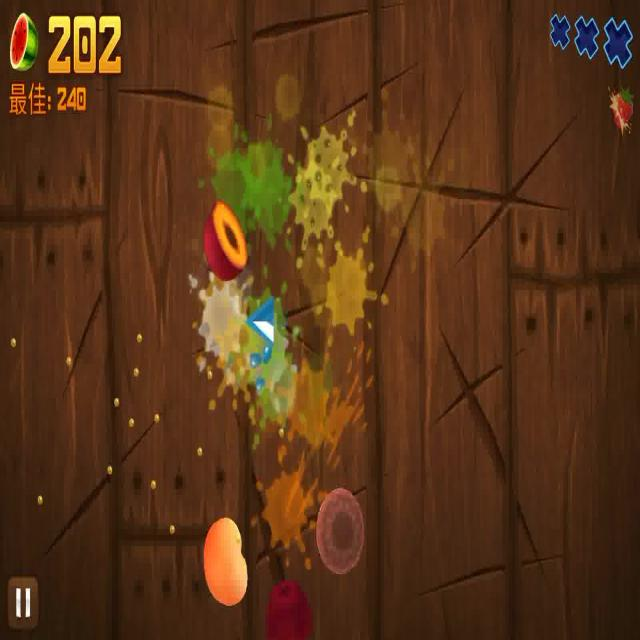fruit: (200, 510, 250, 605), (316, 487, 364, 573), (262, 568, 318, 640), (202, 200, 247, 278)
